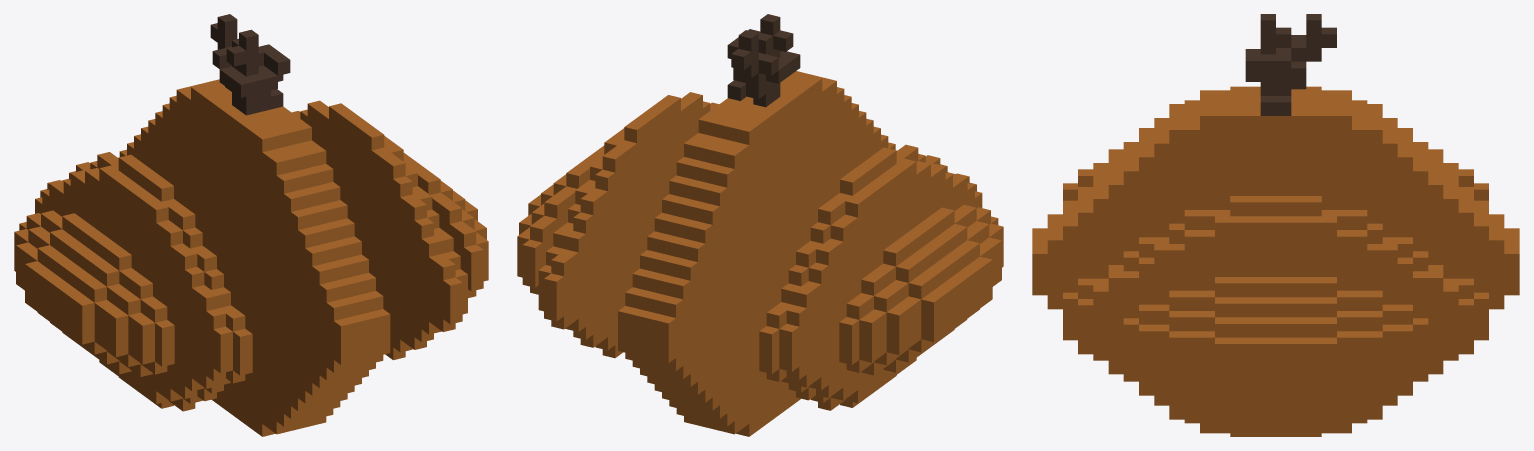
The model's file is CutOnion.obj.
3 views of the same model, side by side, from view 1: azimuth 30°, elevation 25°; view 2: azimuth 150°, elevation 25°; view 3: azimuth 270°, elevation 25° (orthographic). The views are drawn at different scales.
Size of the model in its own units: 3.2 by 2.9 by 3.2.
Materials: 1 (1 with a texture image).
